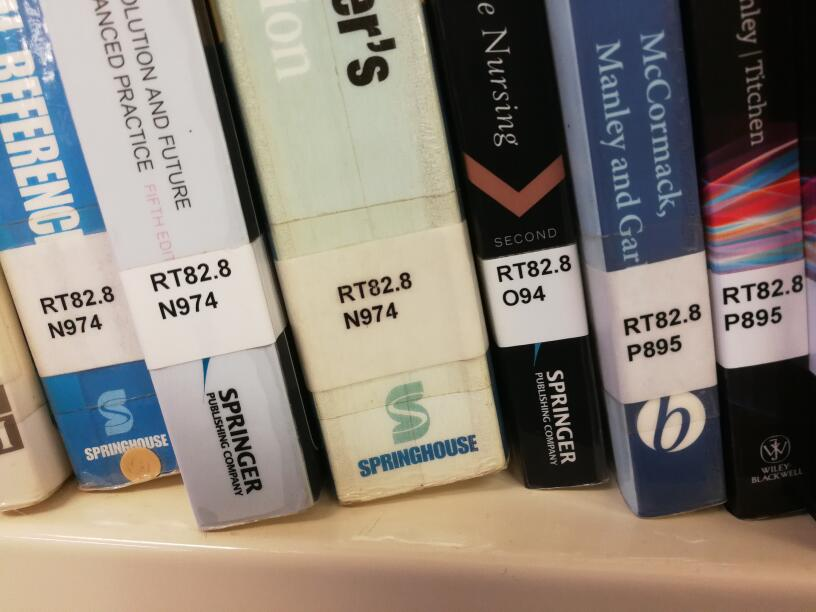booklabel: (146, 255, 235, 320), (619, 301, 704, 363), (335, 269, 416, 332), (721, 272, 805, 332), (36, 282, 117, 341), (494, 252, 574, 307)
